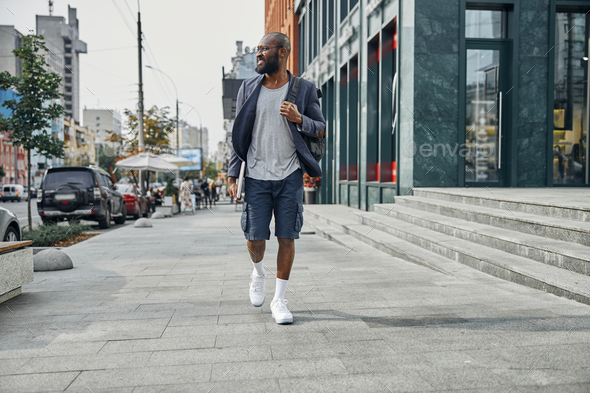car: (35, 164, 129, 235), (114, 183, 153, 218)
person: (223, 31, 328, 329)
